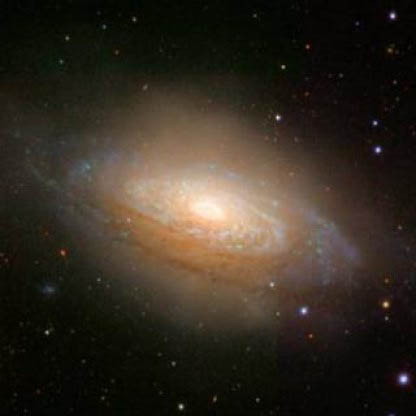NGC 3521: (40, 66, 382, 341)
